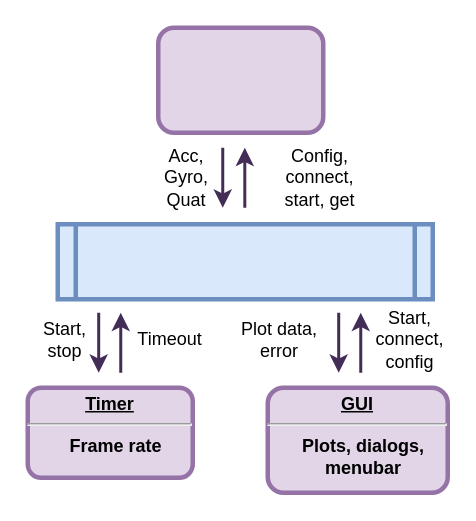
Some shapes in this 476 by 521 pixel diagram are drawn without their labels. Here are the shapes that lost their labels. From the top down, the centre of each, then its label:
the point at 240,79: UART Module Sync & decode
the point at 244,261: app.py
